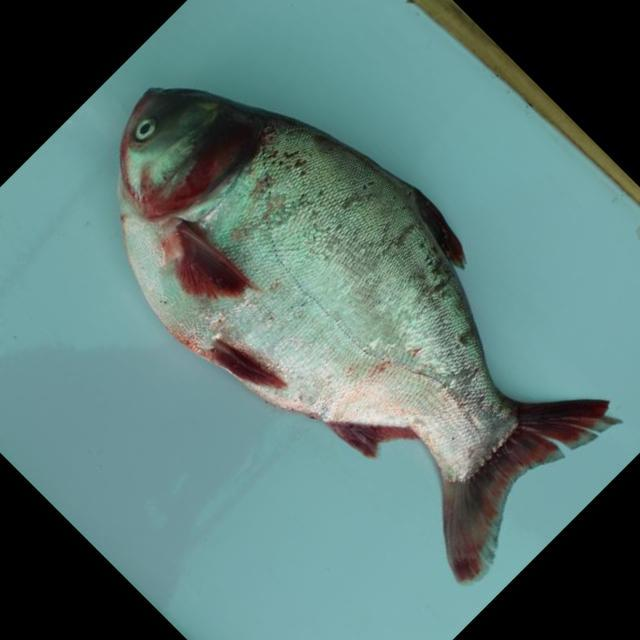SilverCarp: (92, 80, 627, 560)
